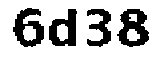3: (82, 6, 114, 51)
6: (11, 6, 44, 52)
8: (117, 5, 152, 51)
d: (48, 8, 80, 52)
